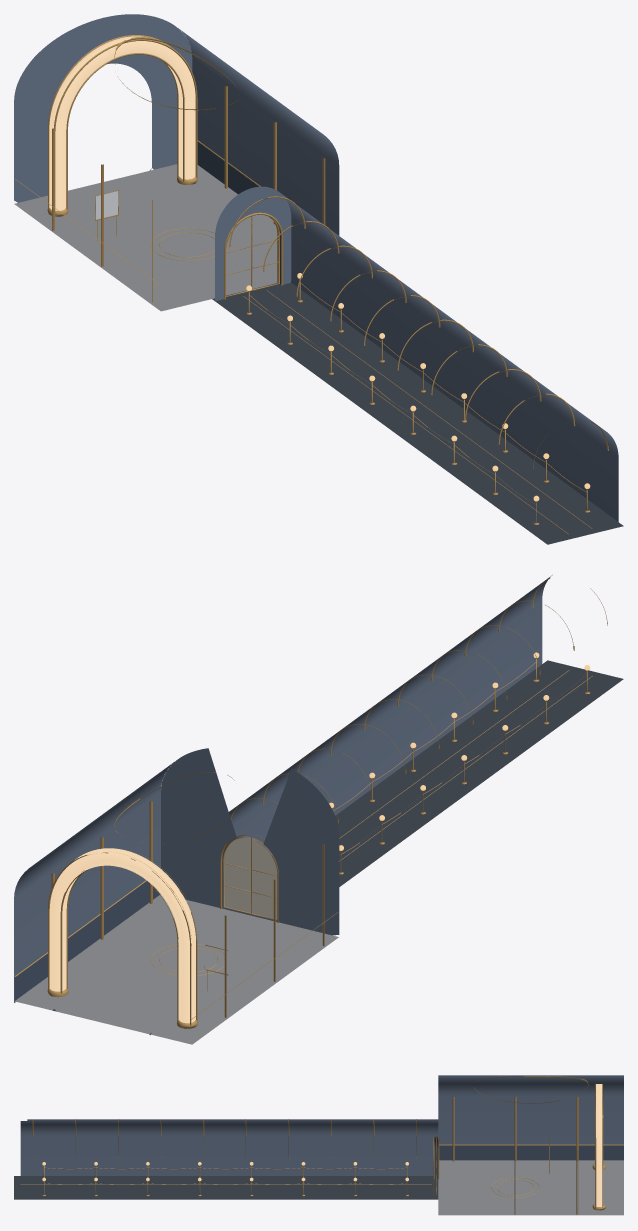
The model's file is lobby.glb.
The picture shows the model from 3 angles, top to bottom: view 1: azimuth 30°, elevation 25°; view 2: azimuth 150°, elevation 25°; view 3: azimuth 270°, elevation 25°; orthographic projection. The views are drawn at different scales.
Parts seen in each view (by area): view 1: lobby.plaster, lobby.floor, lobby.floor_light, lobby.brass, lobby.arch, lobby.plaster_dark; view 2: lobby.plaster, lobby.floor_light, lobby.floor, lobby.brass, lobby.arch, lobby.plaster_dark, lobby.door.001, lobby.door.002; view 3: lobby.plaster, lobby.floor, lobby.floor_light, lobby.brass, lobby.plaster_dark, lobby.arch.
Boxes of the visible parts, x1=… form: lobby.plaster: x1=14, y1=14, x2=618, y2=521; lobby.floor: x1=212, y1=282, x2=623, y2=544; lobby.floor_light: x1=14, y1=164, x2=277, y2=311; lobby.brass: x1=15, y1=35, x2=608, y2=534; lobby.arch: x1=49, y1=36, x2=195, y2=210; lobby.plaster_dark: x1=197, y1=142, x2=280, y2=283; lobby.plaster: x1=14, y1=575, x2=552, y2=1035; lobby.floor_light: x1=14, y1=894, x2=338, y2=1044; lobby.floor: x1=222, y1=660, x2=623, y2=921; lobby.brass: x1=15, y1=578, x2=607, y2=1028; lobby.arch: x1=49, y1=848, x2=195, y2=1023; lobby.plaster_dark: x1=14, y1=845, x2=227, y2=1000; lobby.door.001: x1=224, y1=836, x2=250, y2=912; lobby.door.002: x1=252, y1=838, x2=278, y2=919; lobby.plaster: x1=20, y1=1075, x2=623, y2=1175; lobby.floor: x1=14, y1=1176, x2=438, y2=1199; lobby.floor_light: x1=438, y1=1160, x2=623, y2=1215; lobby.brass: x1=20, y1=1076, x2=623, y2=1214; lobby.plaster_dark: x1=434, y1=1136, x2=623, y2=1178; lobby.arch: x1=596, y1=1084, x2=602, y2=1206.
Bounding box in the file's own units: 8.4 × 7.52 × 39.4.
